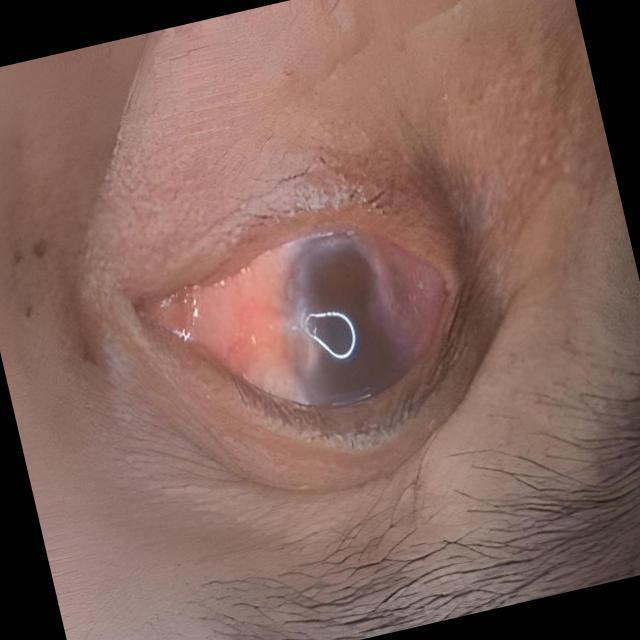Pterygium: (160, 234, 343, 432), (347, 220, 485, 388)
